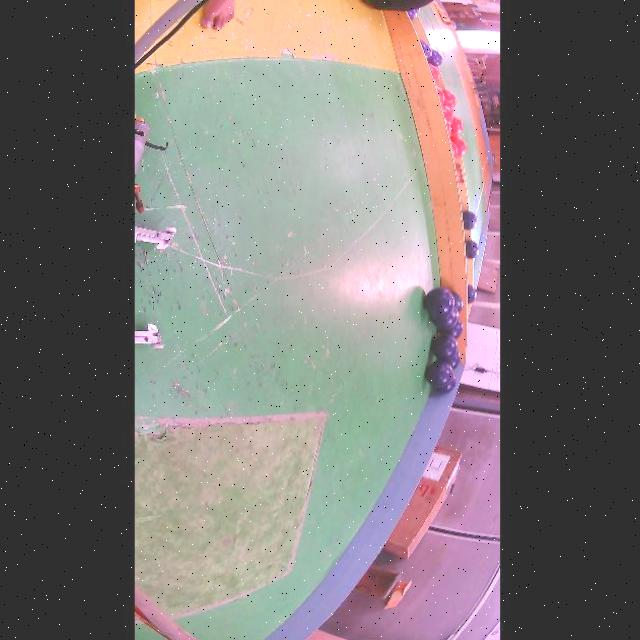B: (424, 288, 454, 318), (425, 360, 453, 388), (431, 334, 458, 359), (430, 307, 458, 330), (440, 318, 463, 339), (435, 374, 456, 395), (445, 350, 461, 369), (463, 211, 477, 230), (465, 240, 478, 259), (452, 292, 463, 312), (467, 284, 477, 303)
P: (428, 49, 443, 66), (420, 40, 433, 58), (407, 10, 418, 20)
R: (451, 136, 467, 157), (429, 63, 440, 85), (451, 117, 463, 136), (443, 90, 457, 106), (442, 104, 453, 123), (437, 86, 445, 104), (444, 99, 454, 113), (451, 141, 458, 160), (447, 122, 452, 137)
